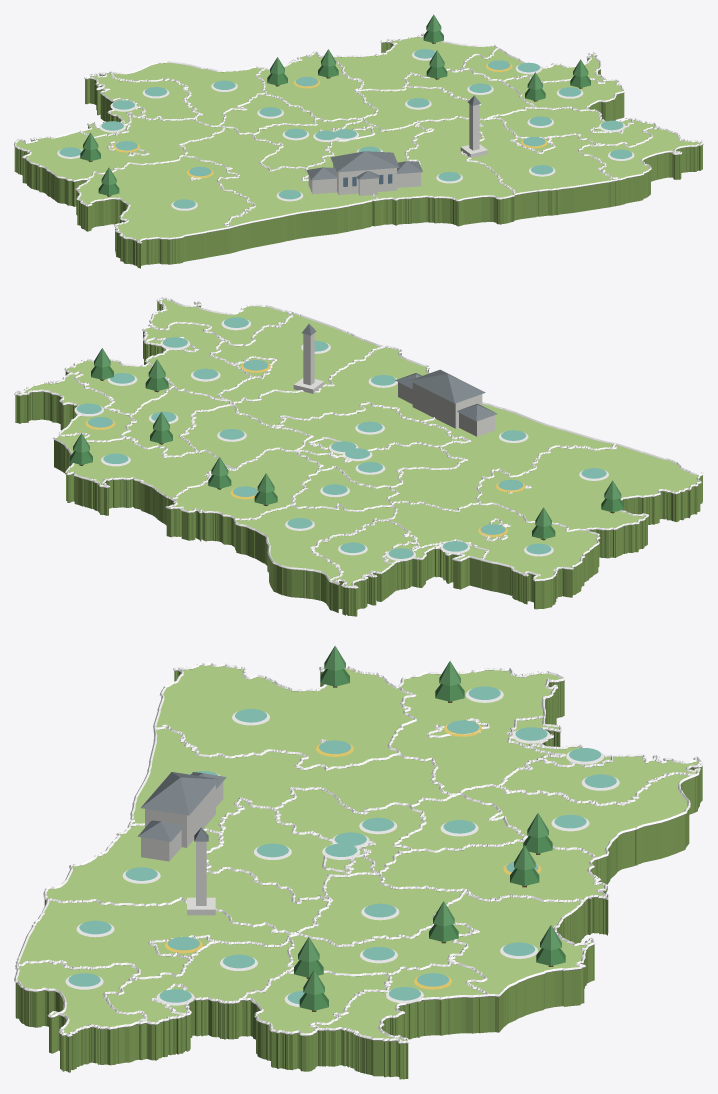
Rendered from peta_jabar.glb.
3 views of the same model, one above another, from view 1: azimuth 30°, elevation 25°; view 2: azimuth 150°, elevation 25°; view 3: azimuth 270°, elevation 25° (orthographic). The views are drawn at different scales.
Parts seen in each view (by area): view 1: Wilayah_25, Garis_Batas, Wilayah_06, Wilayah_08, Wilayah_27, Wilayah_04, Wilayah_22, Gedung_Diskuk, Wilayah_09, Wilayah_24, Wilayah_10, Pohon (+10 smaller); view 2: Garis_Batas, Wilayah_25, Wilayah_04, Wilayah_09, Wilayah_06, Wilayah_10, Wilayah_24, Wilayah_08, Wilayah_27, Wilayah_03, Wilayah_01, Gedung_Diskuk (+12 smaller); view 3: Garis_Batas, Wilayah_25, Wilayah_04, Wilayah_09, Wilayah_06, Wilayah_08, Wilayah_27, Wilayah_10, Wilayah_07, Wilayah_05, Wilayah_24, Wilayah_22 (+11 smaller).
Boxes of the visible parts, x1,y1,x2,y2 form: Wilayah_25: [76, 156, 253, 268]; Garis_Batas: [14, 33, 703, 243]; Wilayah_06: [182, 128, 379, 252]; Wilayah_08: [374, 117, 514, 226]; Wilayah_27: [469, 119, 619, 220]; Wilayah_04: [14, 114, 222, 206]; Wilayah_22: [580, 128, 702, 205]; Gedung_Diskuk: [306, 151, 422, 195]; Wilayah_09: [334, 37, 496, 89]; Wilayah_24: [258, 52, 376, 120]; Wilayah_10: [113, 62, 264, 125]; Pohon: [80, 14, 590, 196]; Garis_Batas: [14, 297, 703, 588]; Wilayah_25: [478, 445, 702, 558]; Wilayah_04: [391, 502, 599, 609]; Wilayah_09: [54, 434, 229, 525]; Wilayah_06: [389, 404, 612, 510]; Wilayah_10: [235, 505, 395, 608]; Wilayah_24: [166, 449, 319, 547]; Wilayah_08: [235, 347, 432, 426]; Wilayah_27: [212, 313, 379, 403]; Wilayah_03: [314, 520, 414, 616]; Wilayah_01: [276, 403, 466, 453]; Gedung_Diskuk: [395, 369, 497, 436]; Garis_Batas: [14, 662, 703, 1043]; Wilayah_25: [156, 665, 413, 767]; Wilayah_04: [391, 670, 564, 793]; Wilayah_09: [447, 891, 594, 1032]; Wilayah_06: [132, 727, 449, 831]; Wilayah_08: [44, 825, 327, 932]; Wilayah_27: [19, 899, 291, 977]; Wilayah_10: [463, 774, 695, 891]; Wilayah_07: [314, 963, 487, 1079]; Wilayah_05: [106, 940, 291, 1060]; Wilayah_24: [381, 841, 608, 936]; Wilayah_22: [15, 962, 143, 1072].
Size of the model in its own units: 10.03 by 1.46 by 7.7.
